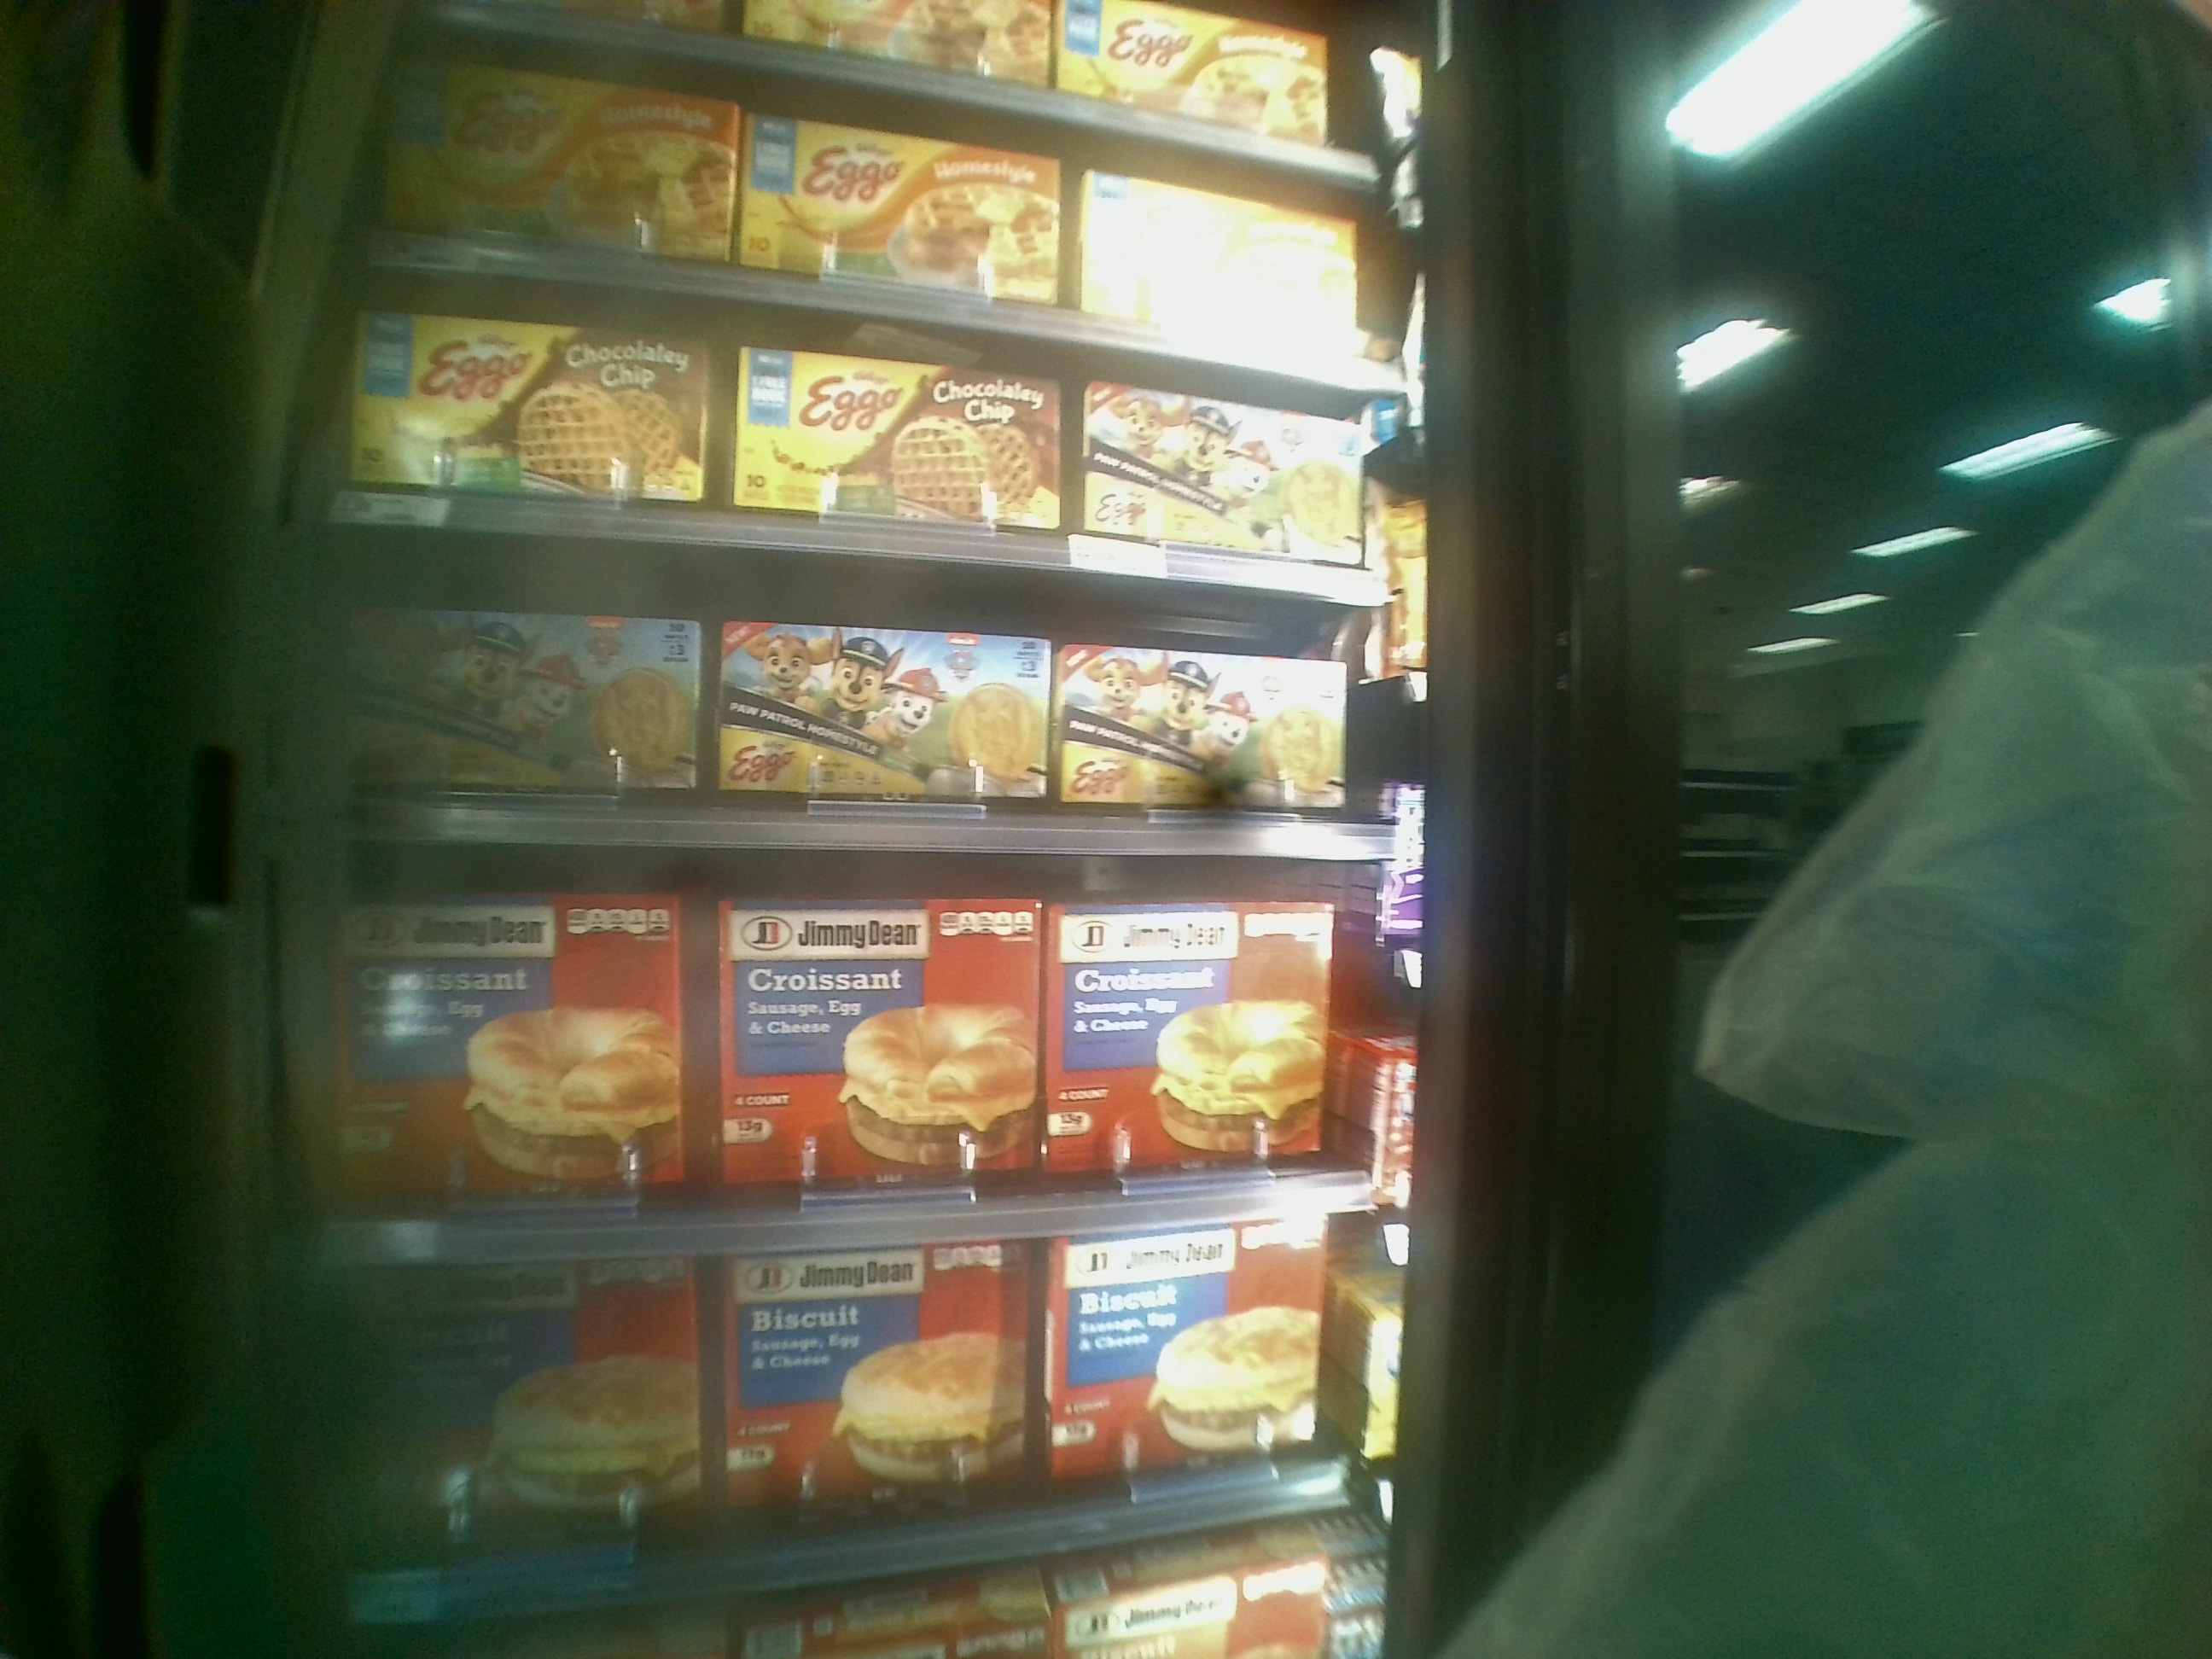shelf: (280, 833, 1400, 1256), (301, 526, 1390, 863), (314, 261, 1390, 601)
